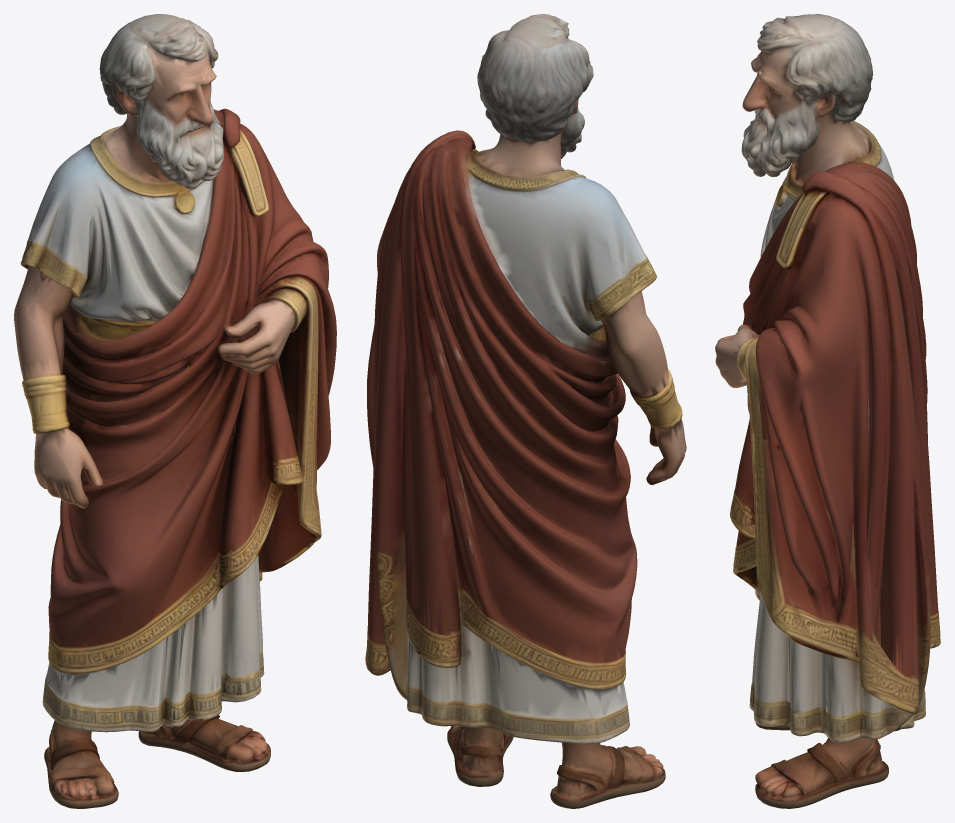
Rendered from aristotle.glb.
3 renders of one model, left to right at view 1: azimuth 30°, elevation 25°; view 2: azimuth 150°, elevation 25°; view 3: azimuth 270°, elevation 25°, orthographic.
Parts seen in each view (by area): view 1: node_0; view 2: node_0; view 3: node_0.
Part boxes in pixels (x1,y1,x2,y2): node_0: (14,14,336,808); node_0: (365,14,686,808); node_0: (715,14,940,808).
Bounding box in the file's own units: 0.4749 × 1.12 × 0.3076.
1 material, 1 textured.
